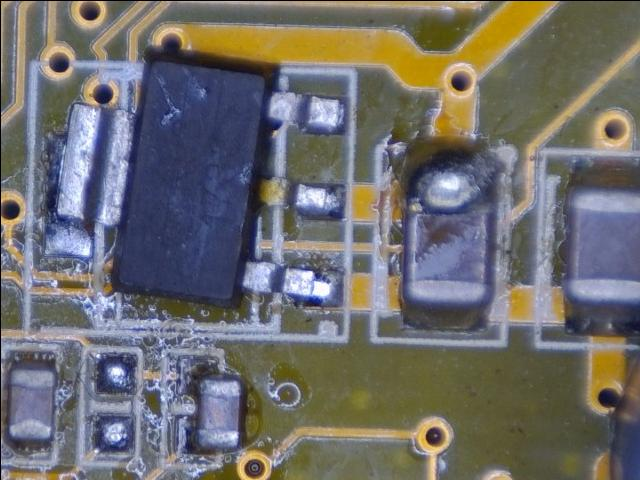Incorrect_installation: (43, 55, 347, 309)
